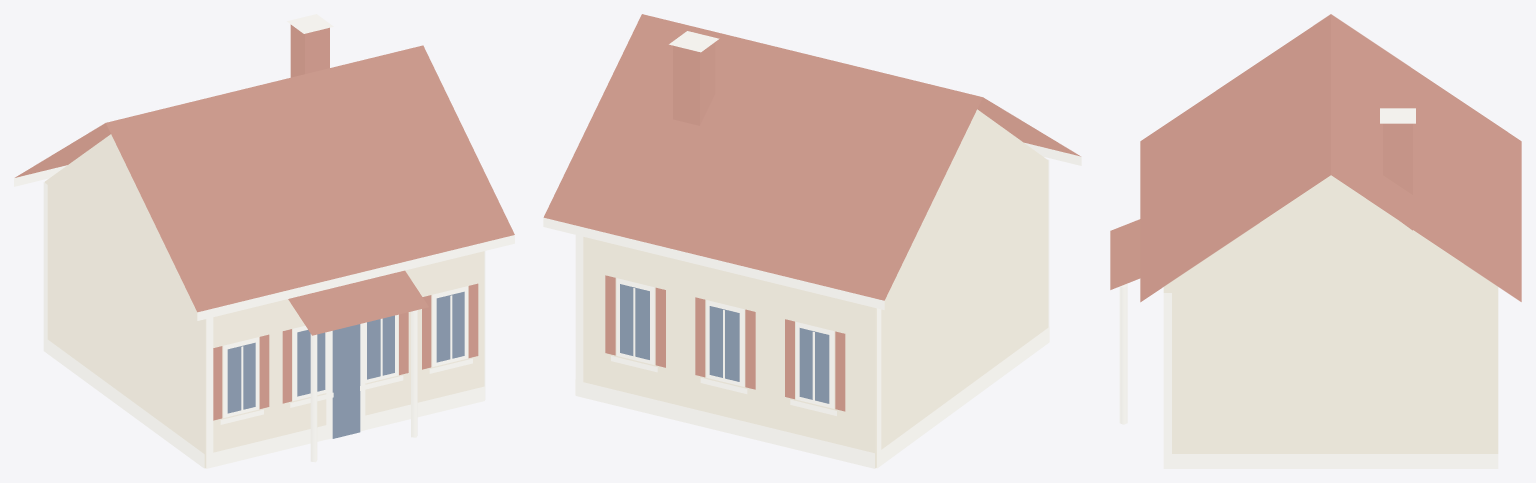
File: Blender_House_Gable_1.glb
3 views of the same model, side by side, from view 1: azimuth 30°, elevation 25°; view 2: azimuth 150°, elevation 25°; view 3: azimuth 270°, elevation 25° (orthographic). The views are drawn at different scales.
Parts seen in each view (by area): view 1: Blender_House_Gable_1; view 2: Blender_House_Gable_1; view 3: Blender_House_Gable_1.
Boxes of the visible parts, x1,y1,x2,y2 form: Blender_House_Gable_1: (14,14,514,468); Blender_House_Gable_1: (543,14,1081,468); Blender_House_Gable_1: (1110,14,1521,468).
Bounding box in the file's own units: 1.14 × 1.06 × 1.23.
